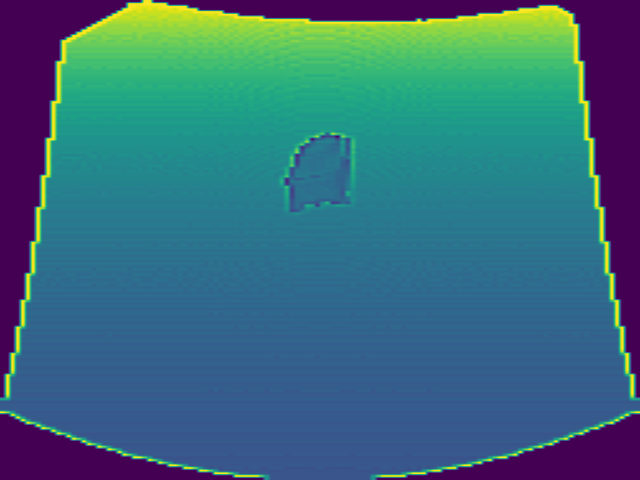car_0027: (281, 131, 358, 214)
